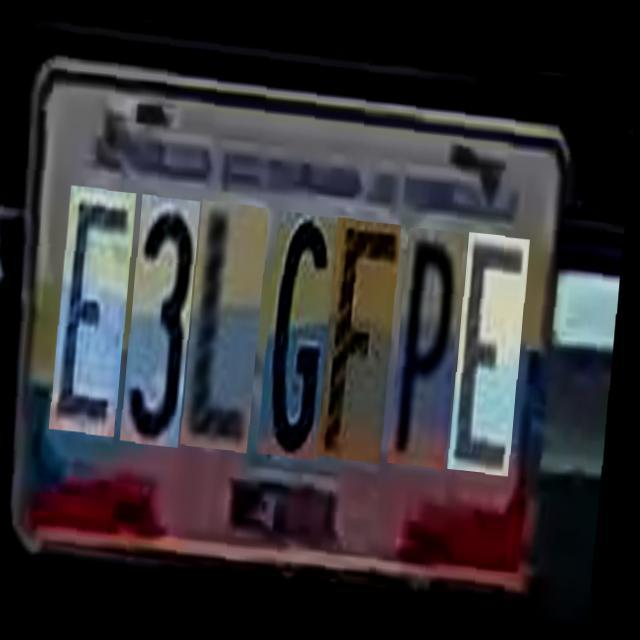3: (126, 188, 200, 439)
E: (54, 182, 135, 431), (454, 209, 530, 451)
F: (322, 200, 401, 444)
G: (262, 198, 339, 444)
L: (185, 190, 268, 440)
P: (394, 207, 464, 448)
